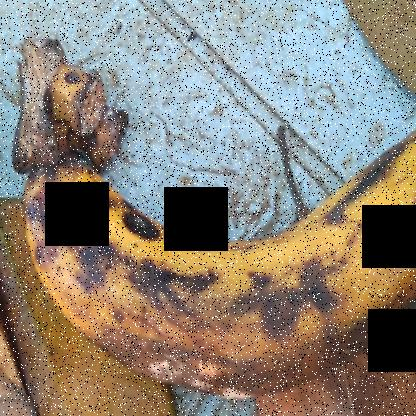overripe: (37, 105, 415, 415)
